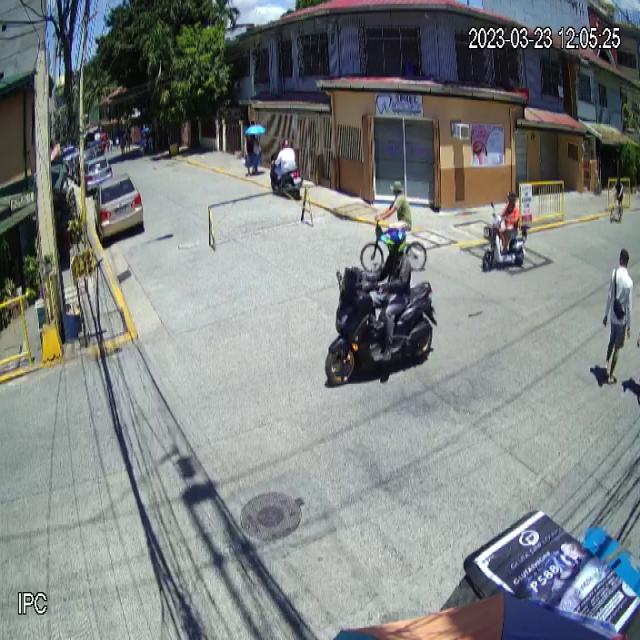Motorcycle: (324, 267, 438, 386)
